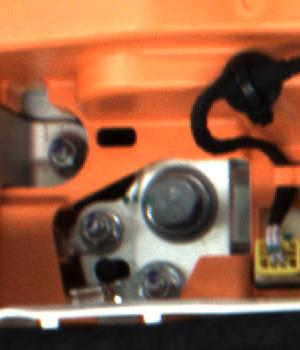nut_b: (142, 161, 224, 241)
screw_s: (133, 265, 181, 304), (71, 207, 115, 247), (45, 133, 84, 177)
